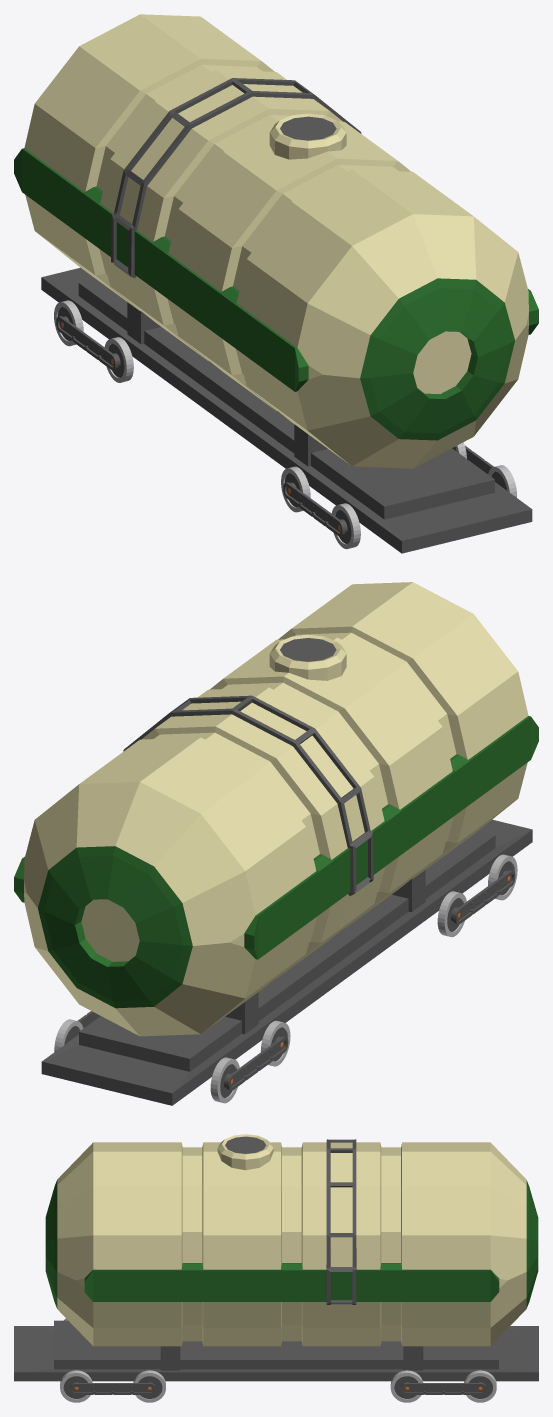
Rendered from fuel_container.glb.
The picture shows the model from 3 angles, top to bottom: view 1: azimuth 30°, elevation 25°; view 2: azimuth 150°, elevation 25°; view 3: azimuth 270°, elevation 25°; orthographic projection. The views are drawn at different scales.
Visible parts, largest first — view 1: OilContainer, Base, OilDrain, WheelConector, Cube, Wheel_5, Wheel_1, Wheel_0, Wheel_4; view 2: OilContainer, Base, OilDrain, WheelConector, Cube, Wheel_4, Wheel_0, Wheel_1, Wheel_5; view 3: OilContainer, Base, WheelConector, OilDrain, Cube, Wheel_7, Wheel_6, Wheel_2, Wheel_3.
Part boxes in pixels (x1=…): OilContainer: x1=14, y1=14, x2=538, y2=468; Base: x1=41, y1=267, x2=532, y2=553; OilDrain: x1=269, y1=113, x2=346, y2=159; WheelConector: x1=56, y1=316, x2=493, y2=536; Cube: x1=127, y1=302, x2=327, y2=466; Wheel_5: x1=104, y1=337, x2=133, y2=382; Wheel_1: x1=331, y1=503, x2=360, y2=549; Wheel_0: x1=281, y1=466, x2=310, y2=512; Wheel_4: x1=54, y1=300, x2=83, y2=346; OilContainer: x1=14, y1=582, x2=538, y2=1036; Base: x1=41, y1=819, x2=532, y2=1105; OilDrain: x1=269, y1=634, x2=346, y2=680; WheelConector: x1=77, y1=870, x2=515, y2=1090; Cube: x1=225, y1=870, x2=425, y2=1033; Wheel_4: x1=210, y1=1057, x2=239, y2=1103; Wheel_0: x1=437, y1=891, x2=466, y2=937; Wheel_1: x1=488, y1=854, x2=517, y2=900; Wheel_5: x1=260, y1=1020, x2=290, y2=1066; OilContainer: x1=45, y1=1139, x2=538, y2=1346; Base: x1=14, y1=1320, x2=538, y2=1381; WheelConector: x1=70, y1=1383, x2=486, y2=1394; OilDrain: x1=217, y1=1134, x2=273, y2=1170; Cube: x1=160, y1=1346, x2=423, y2=1370; Wheel_7: x1=390, y1=1370, x2=423, y2=1402; Wheel_6: x1=464, y1=1370, x2=496, y2=1402; Wheel_2: x1=133, y1=1370, x2=165, y2=1402; Wheel_3: x1=60, y1=1370, x2=92, y2=1402.
Size of the model in its own units: 4.06 by 5.05 by 10.46.
